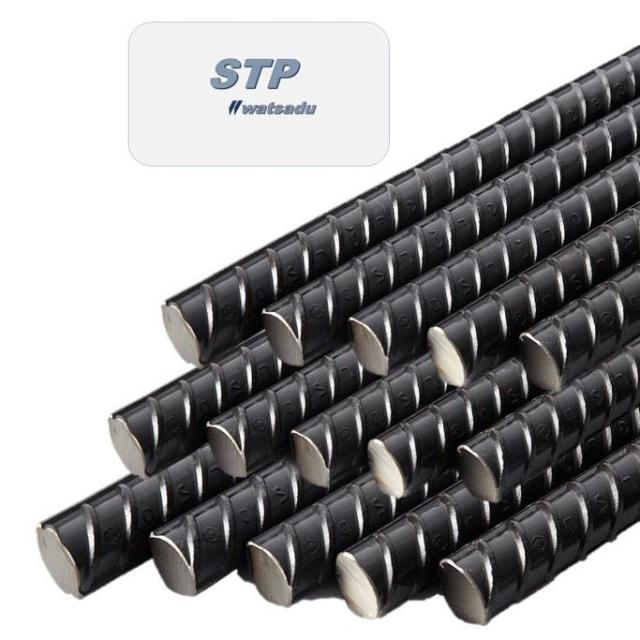Rebar: (242, 539, 299, 619), (325, 551, 385, 625), (37, 518, 89, 597), (152, 531, 206, 607), (425, 319, 480, 393), (158, 292, 208, 368), (454, 442, 506, 515), (522, 325, 568, 407), (202, 420, 258, 487), (345, 311, 395, 383), (356, 439, 412, 502), (281, 426, 334, 492), (264, 316, 322, 374), (111, 411, 157, 484), (437, 557, 485, 625)
